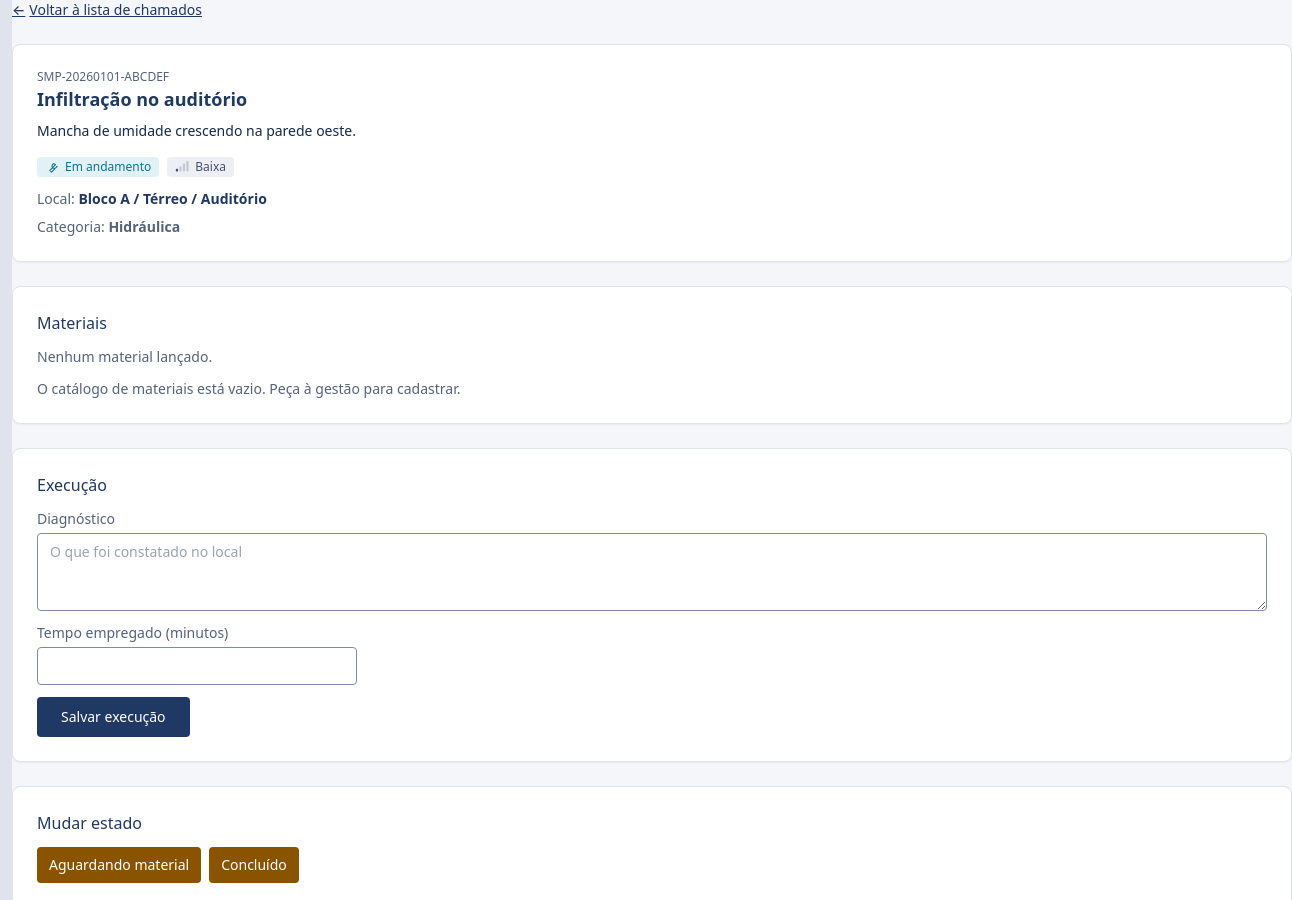
Test: Conclusão com confirmação de EPI › pede a confirmação junto da descrição, desmarcada e com a explicação
Expected: the heading "Infiltração no auditório" is shown, [37, 85, 247, 113]
Click the button "Concluído": (254, 865) [209, 847, 299, 883]
(page scrolled)
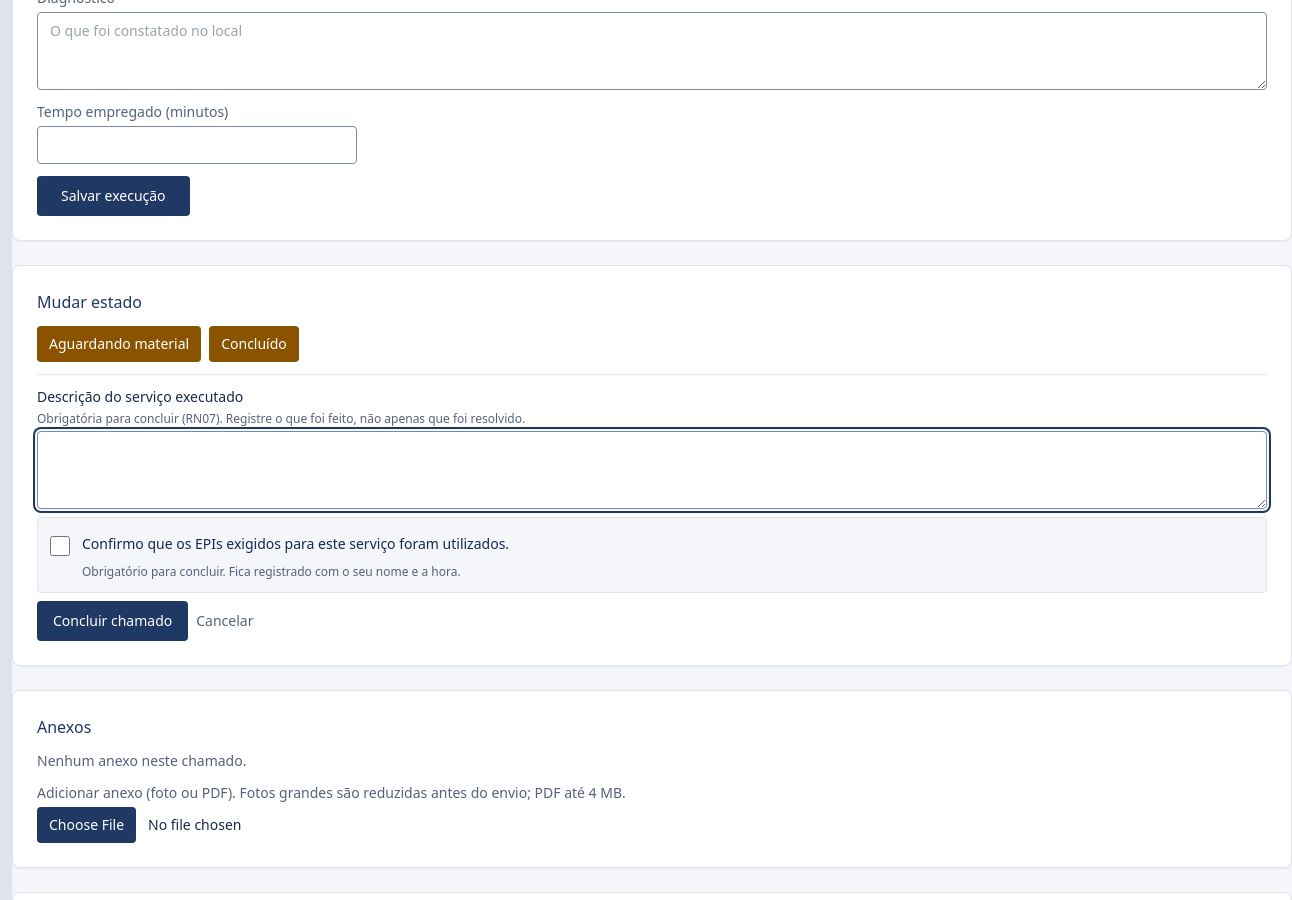
Result: the checkbox labelled "EPIs exigidos para este serviço" is not checked at [50, 536, 70, 556]
